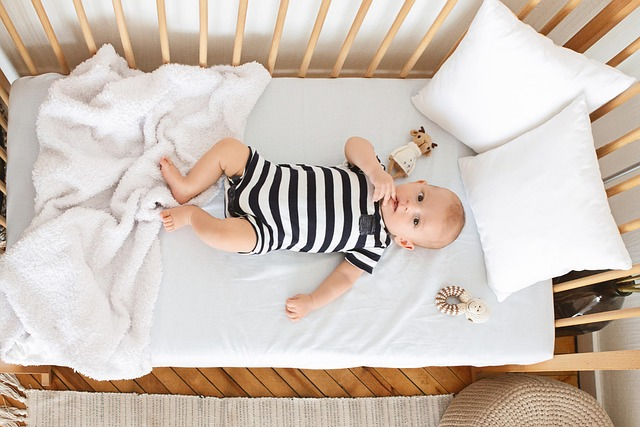baby: (160, 137, 463, 319)
crib: (0, 0, 478, 92)
